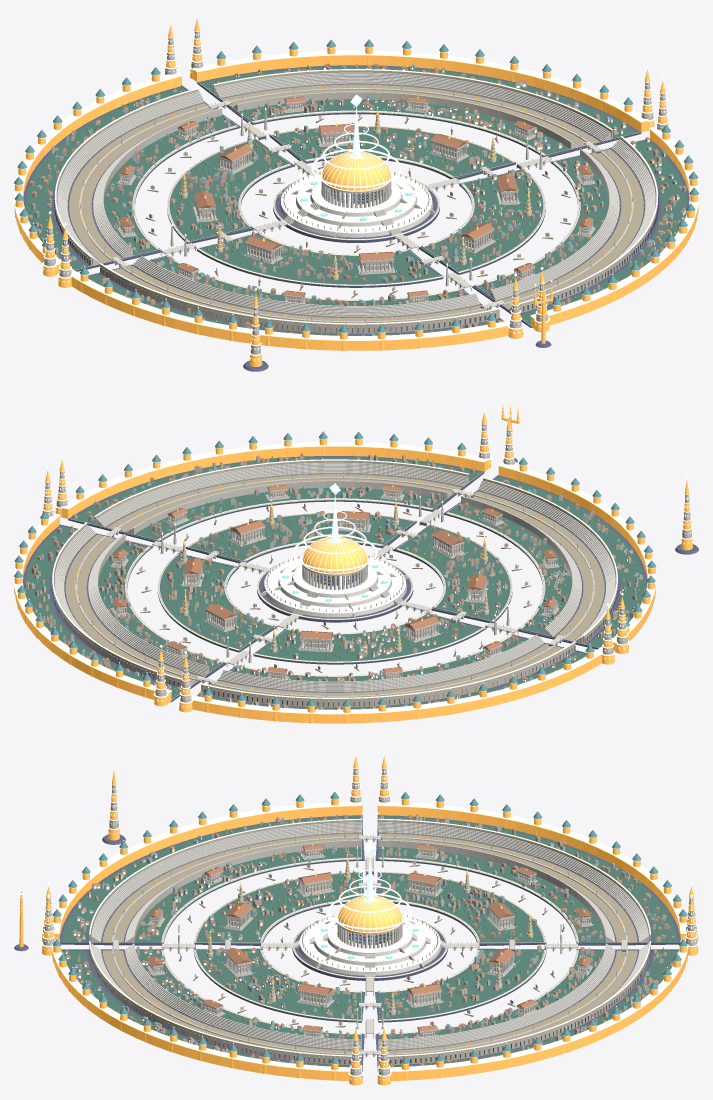
Rendered from atlantis_lite.glb.
The picture shows the model from 3 angles, top to bottom: view 1: azimuth 30°, elevation 25°; view 2: azimuth 150°, elevation 25°; view 3: azimuth 270°, elevation 25°; orthographic projection. The views are drawn at different scales.
Visible parts, largest first — view 1: marble, grass, trim, ori, sand, stone, plaster, roof, roof2, plaster3, plaster2, win (+6 smaller); view 2: marble, grass, trim, ori, sand, stone, plaster, roof, roof2, plaster3, plaster2, leaf (+6 smaller); view 3: marble, grass, ori, trim, sand, stone, plaster, roof, roof2, plaster3, plaster2, win (+6 smaller).
Boxes of the visible parts, x1=… form: marble: x1=34, y1=31, x2=682, y2=354; grass: x1=25, y1=66, x2=687, y2=335; trim: x1=14, y1=30, x2=698, y2=355; ori: x1=14, y1=18, x2=698, y2=366; sand: x1=69, y1=84, x2=643, y2=323; stone: x1=23, y1=65, x2=689, y2=371; plaster: x1=28, y1=65, x2=672, y2=335; roof: x1=29, y1=63, x2=686, y2=335; roof2: x1=14, y1=39, x2=698, y2=335; plaster3: x1=31, y1=67, x2=685, y2=335; plaster2: x1=29, y1=65, x2=686, y2=328; win: x1=43, y1=33, x2=685, y2=361; marble: x1=25, y1=424, x2=691, y2=705; grass: x1=25, y1=457, x2=645, y2=709; trim: x1=14, y1=423, x2=693, y2=714; ori: x1=14, y1=404, x2=692, y2=723; sand: x1=65, y1=474, x2=604, y2=697; stone: x1=22, y1=456, x2=698, y2=708; plaster: x1=27, y1=455, x2=642, y2=709; roof: x1=25, y1=453, x2=640, y2=709; roof2: x1=14, y1=431, x2=656, y2=708; plaster3: x1=24, y1=457, x2=638, y2=709; plaster2: x1=31, y1=454, x2=636, y2=708; leaf: x1=29, y1=455, x2=639, y2=708; marble: x1=43, y1=768, x2=697, y2=1075; grass: x1=61, y1=816, x2=678, y2=1067; ori: x1=19, y1=757, x2=698, y2=1085; trim: x1=41, y1=768, x2=698, y2=1076; sand: x1=102, y1=833, x2=637, y2=1055; stone: x1=14, y1=814, x2=680, y2=1077; plaster: x1=65, y1=817, x2=665, y2=1066; roof: x1=66, y1=814, x2=673, y2=1066; roof2: x1=53, y1=791, x2=687, y2=1064; plaster3: x1=72, y1=817, x2=664, y2=1067; plaster2: x1=77, y1=816, x2=674, y2=1065; win: x1=43, y1=770, x2=696, y2=1081.
Bounding box in the file's own units: 4395 × 793 × 4578.
